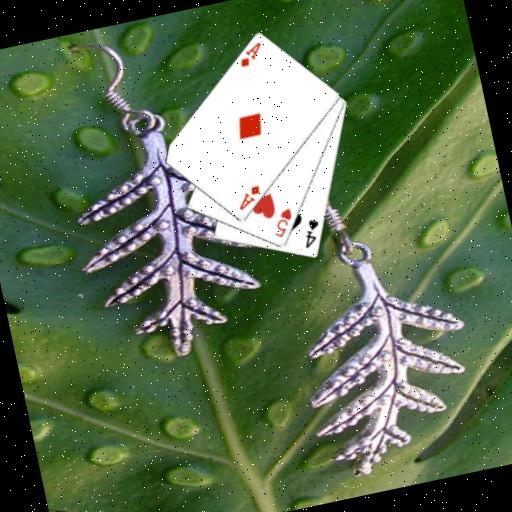4S: (296, 215, 324, 250)
5H: (266, 205, 297, 241)
AD: (232, 182, 265, 213), (233, 39, 266, 70)
